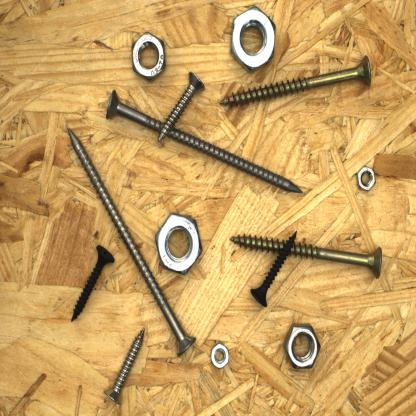screw: (65, 124, 198, 359), (102, 86, 306, 196), (217, 50, 375, 108), (227, 233, 384, 280), (68, 240, 119, 325), (249, 226, 300, 310), (156, 70, 207, 148), (102, 323, 148, 407)
